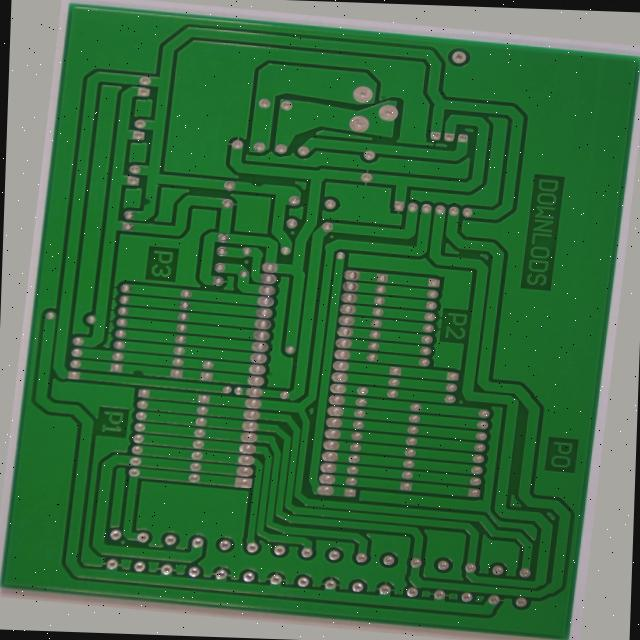mouse_bite: (119, 380, 138, 393), (229, 174, 247, 186), (116, 197, 130, 212)
